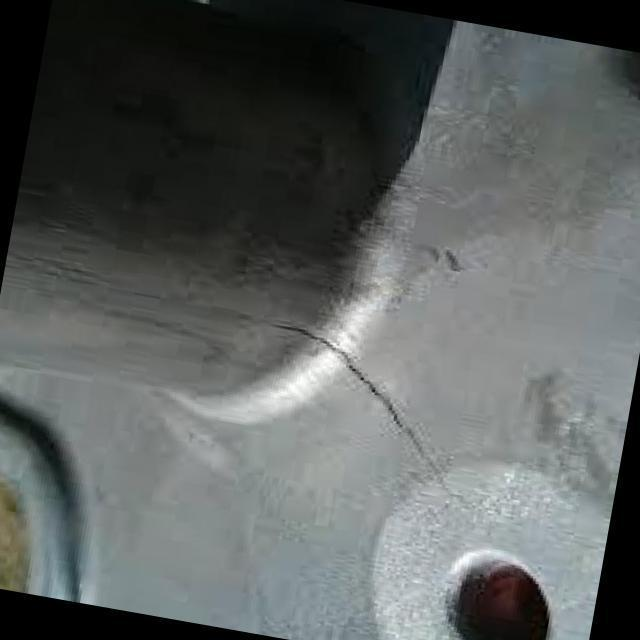defect: (264, 322, 470, 506)
